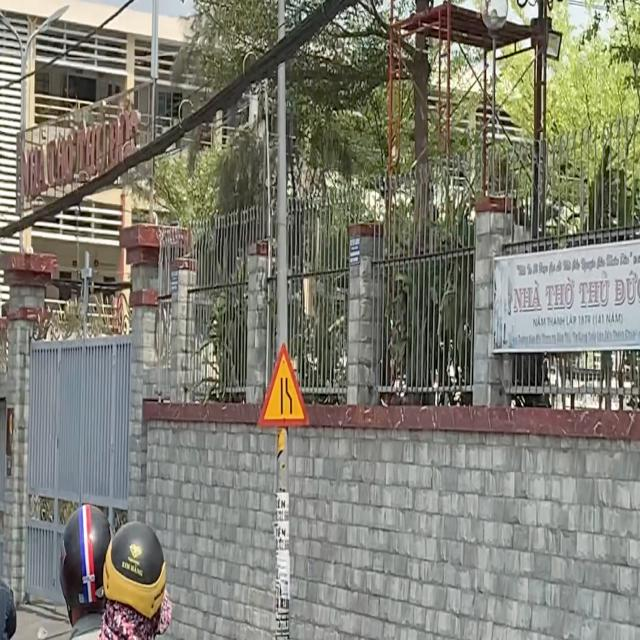Nguy hiem: (257, 341, 311, 427)
